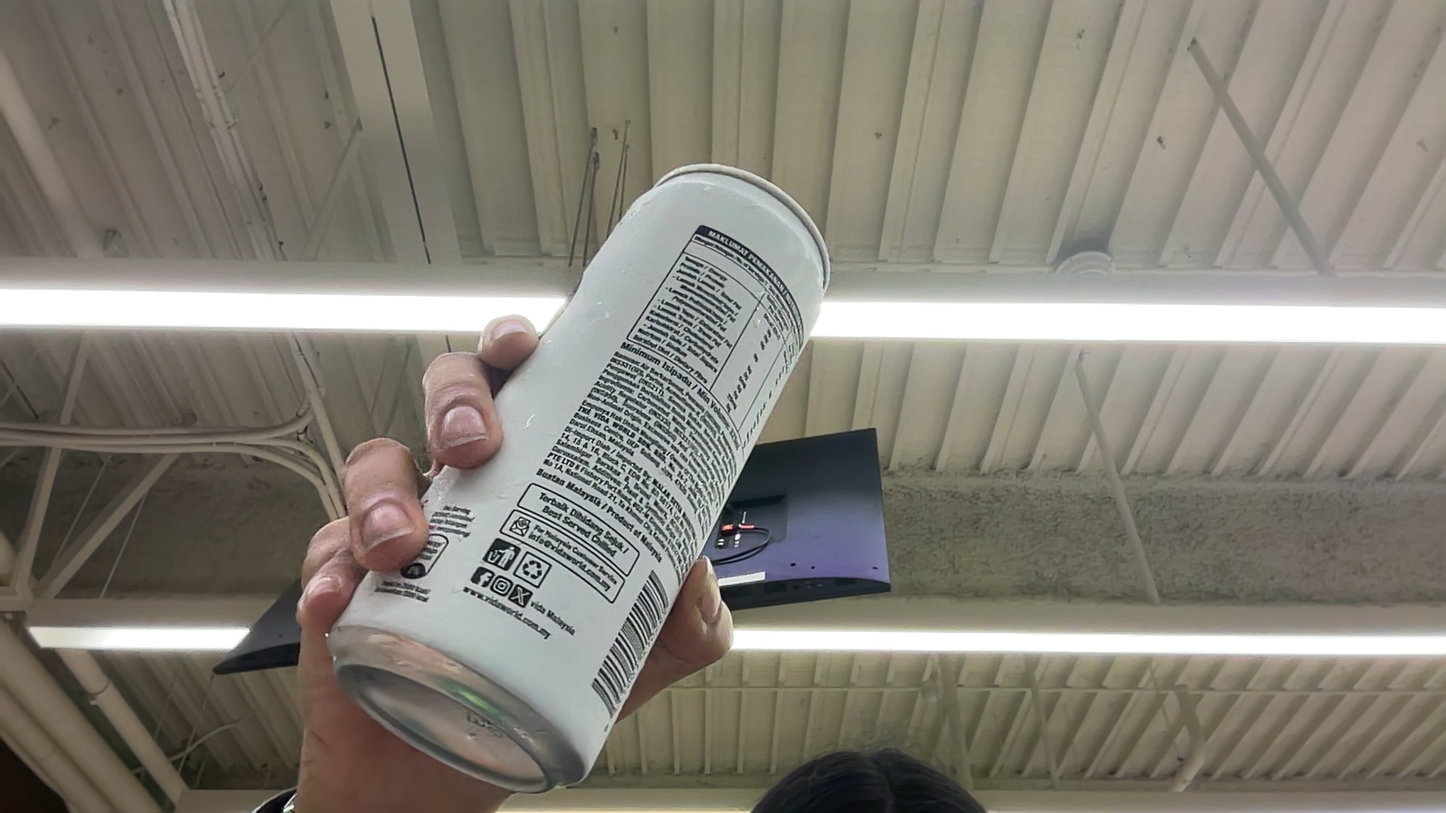Metal: (346, 157, 925, 772)
